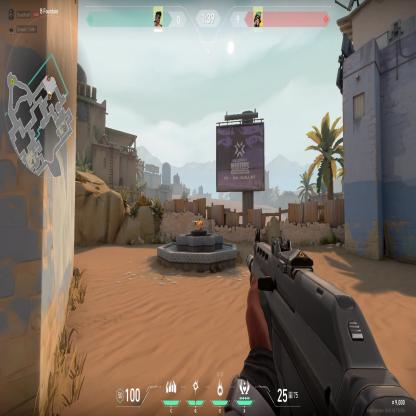enemy: (194, 216, 204, 230)
